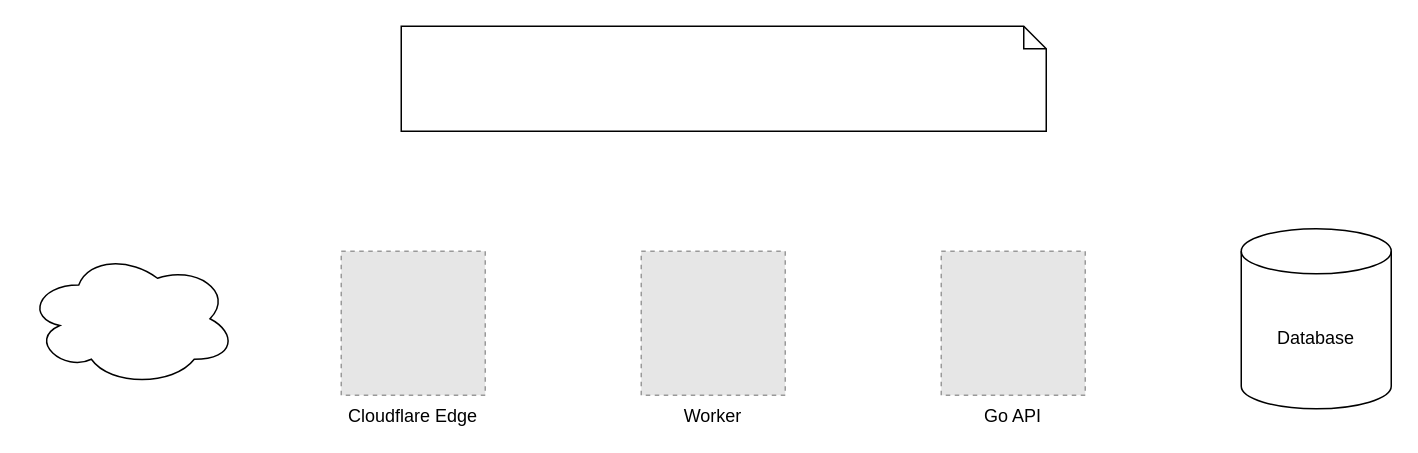
Some shapes in this 1418 by 453 pixel diagram are drawn without their labels. Grey dashed boxes stand in for pictures. The shapes that lost their labels are listed below. From the top down, each one's centre as x and y in pixels, then its label:
At (723,78): "Generated entirely through drawio-mcp".
At (130,318): "Users / Internet".
